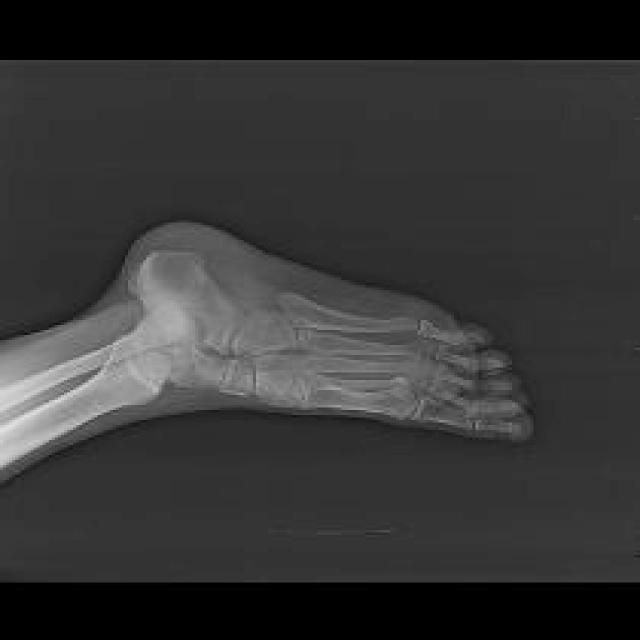normal: (0, 245, 525, 467)
